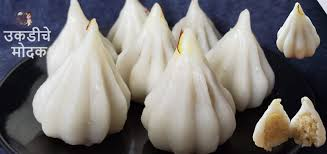modak: (24, 18, 137, 140), (140, 23, 240, 152), (208, 5, 276, 105), (273, 1, 318, 65)
